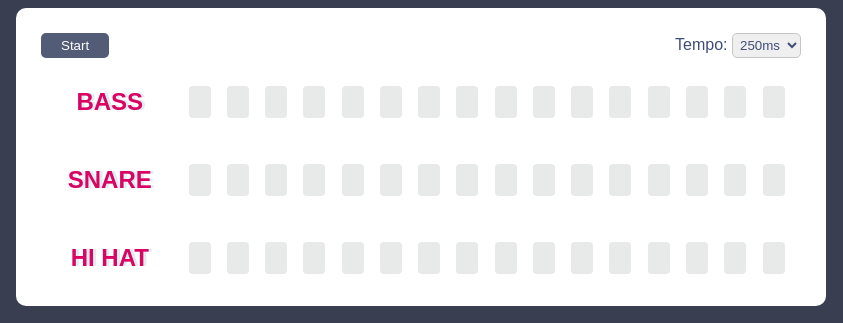
DrumMachine › renders 16 steps for each row and toggles the play button state
Check: the heading "BASS" is shown, box [76, 88, 143, 115]
Check: the heading "SNARE" is shown, box [68, 166, 152, 193]
What coordinates should you click on to do the following:
click the button "Start"
I would click on:
 (75, 46)
Its box is [41, 33, 109, 58].
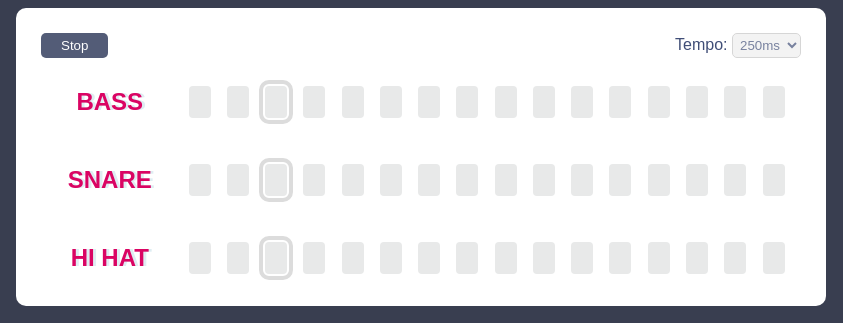
Check: the button "Stop" is shown, box [41, 33, 108, 58]
